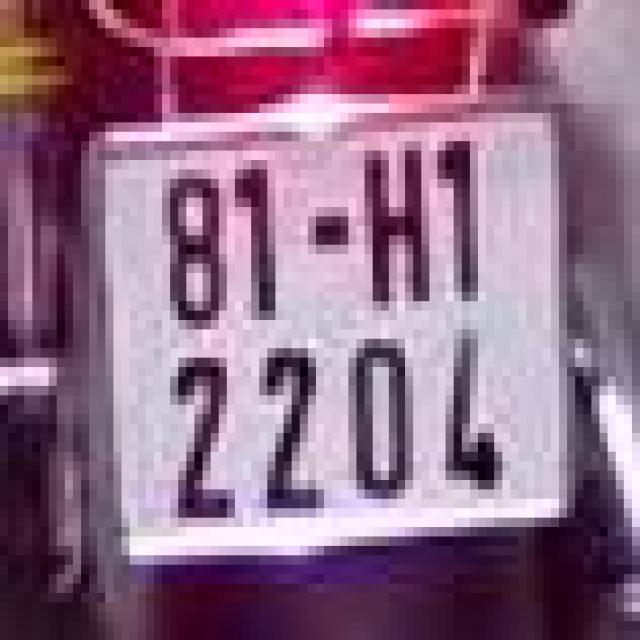0: (341, 330, 422, 508)
1: (430, 136, 494, 296), (231, 155, 287, 334)
2: (166, 353, 247, 532), (259, 338, 332, 518)
4: (438, 316, 518, 504)
8: (158, 160, 239, 339)
H: (357, 132, 438, 310)
